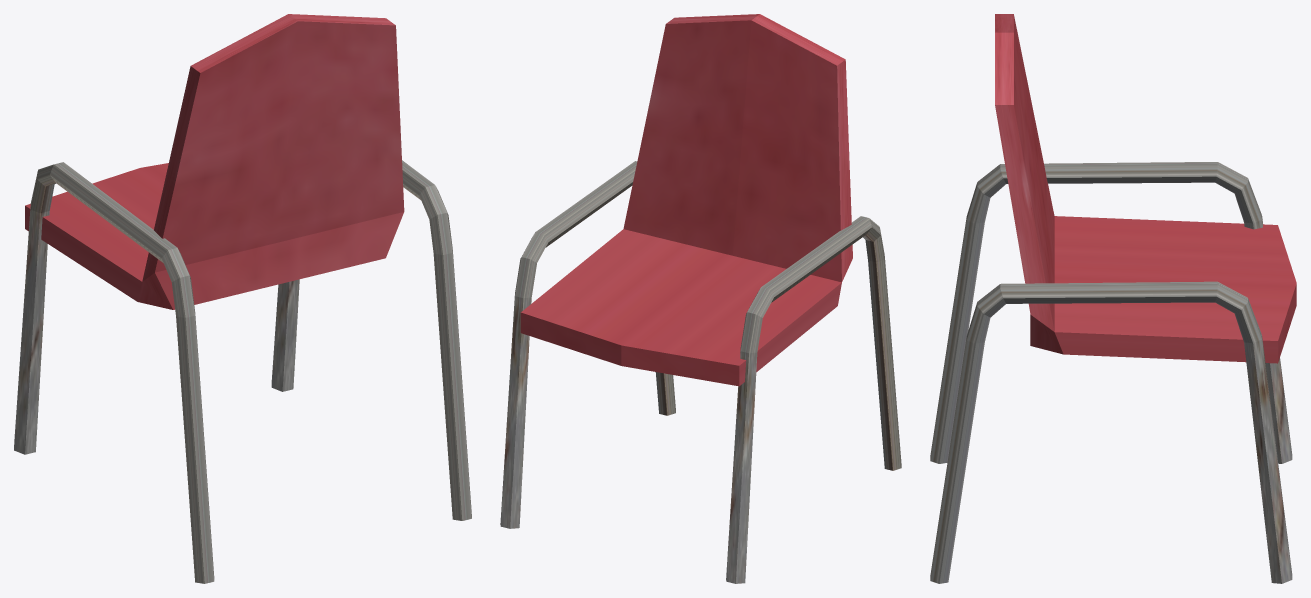
The model's file is ChairRed.fbx.
3 views of the same model, side by side, from view 1: azimuth 30°, elevation 25°; view 2: azimuth 150°, elevation 25°; view 3: azimuth 270°, elevation 25° (orthographic). The views are drawn at different scales.
Parts seen in each view (by area): view 1: ChairRed; view 2: ChairRed; view 3: ChairRed.
Boxes of the visible parts, <box> form: ChairRed: <box>14,14,471,583</box>; ChairRed: <box>500,14,901,583</box>; ChairRed: <box>930,14,1296,583</box>.
Size of the model in its own units: 72.02 by 60.46 by 105.
